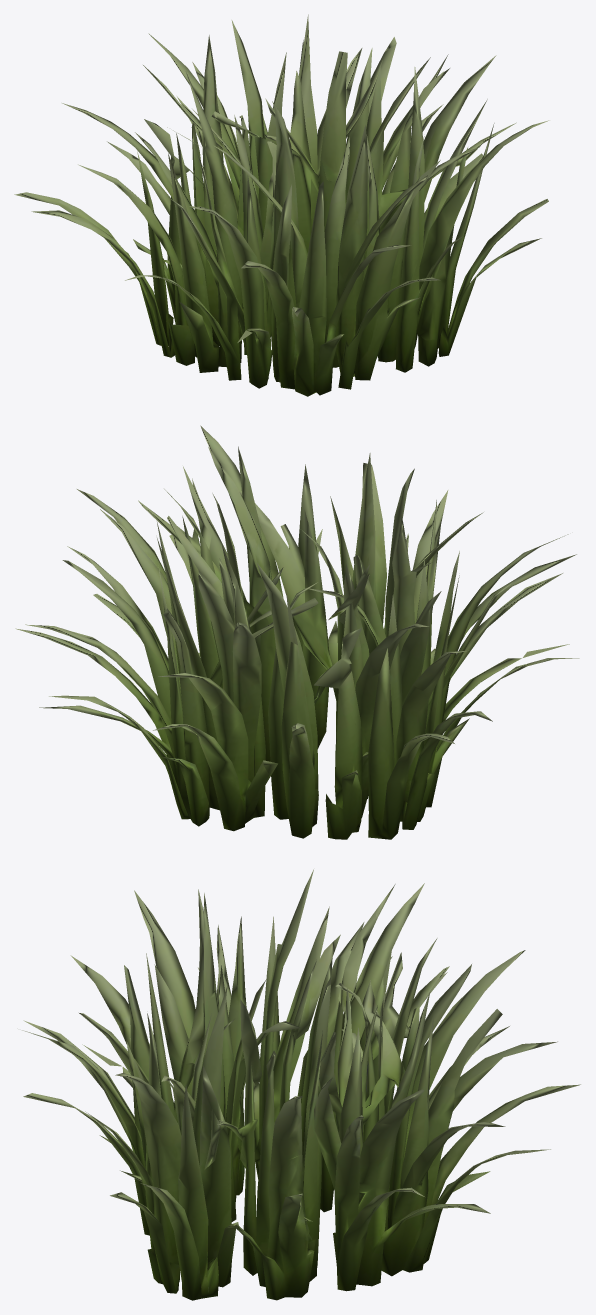
Rendered from arena_grass_v3.glb.
The picture shows the model from 3 angles, top to bottom: view 1: azimuth 30°, elevation 25°; view 2: azimuth 150°, elevation 25°; view 3: azimuth 270°, elevation 25°; orthographic projection. The views are drawn at different scales.
Visible parts, largest first — view 1: tripo_node_497ae5eb-5449-47b4-9109-db77cc3c88f8; view 2: tripo_node_497ae5eb-5449-47b4-9109-db77cc3c88f8; view 3: tripo_node_497ae5eb-5449-47b4-9109-db77cc3c88f8.
Boxes of the visible parts, x1,y1,x2,y2 form: tripo_node_497ae5eb-5449-47b4-9109-db77cc3c88f8: [14, 14, 549, 396]; tripo_node_497ae5eb-5449-47b4-9109-db77cc3c88f8: [15, 425, 579, 839]; tripo_node_497ae5eb-5449-47b4-9109-db77cc3c88f8: [22, 869, 580, 1300].
Size of the model in its own units: 0.986 by 0.6179 by 1.
1 material, 1 textured.
